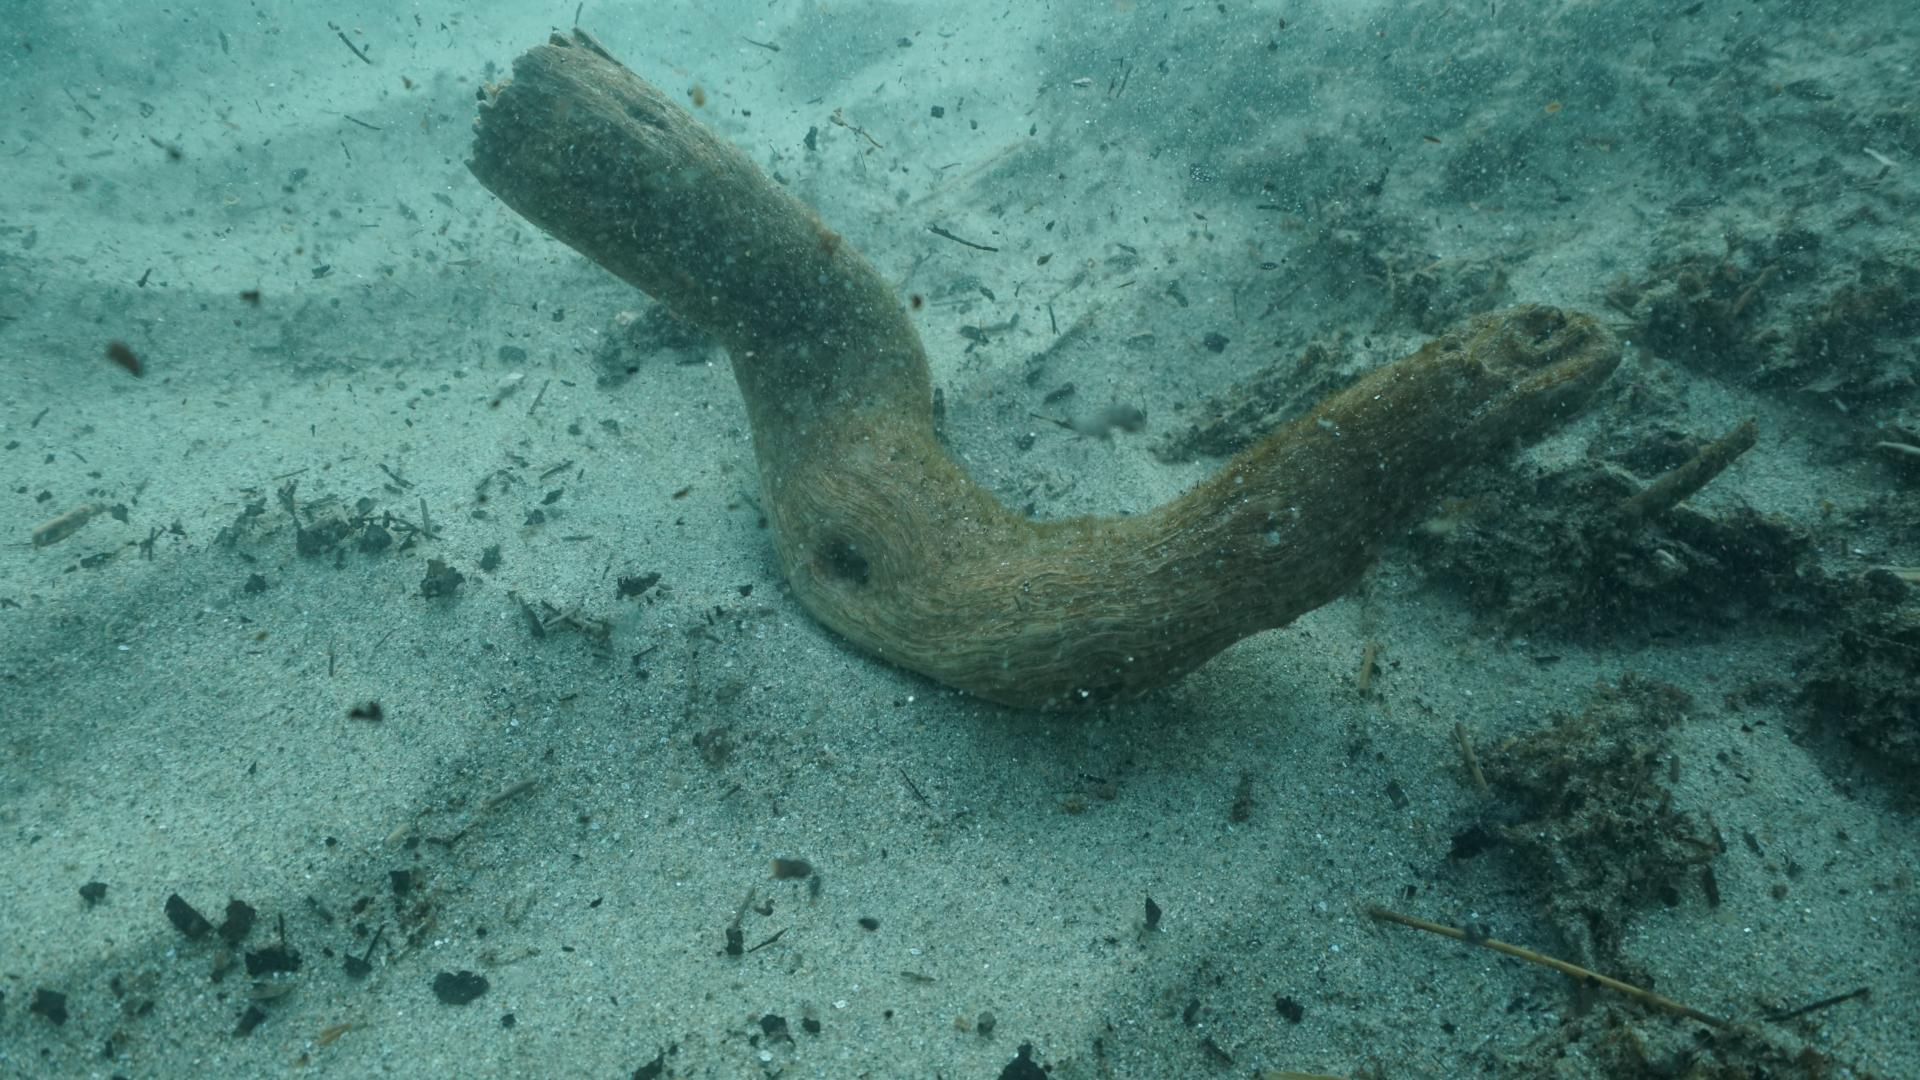wood: (458, 26, 1621, 717)
